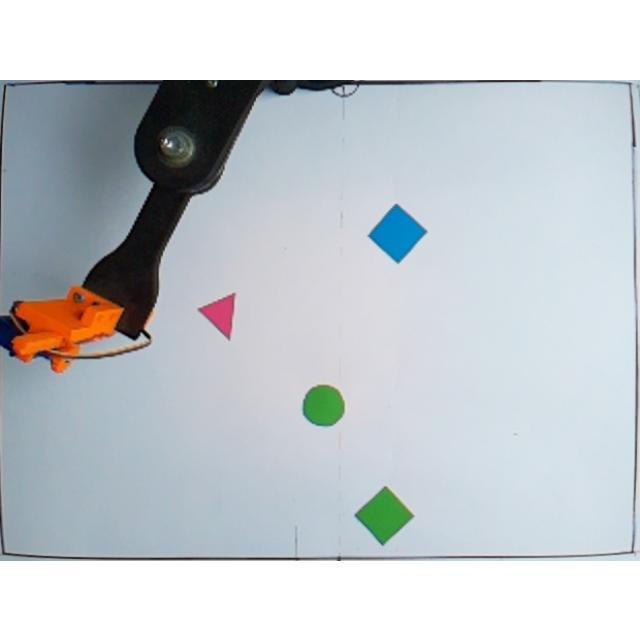blueSquare: (368, 202, 428, 264)
greenCircle: (301, 383, 345, 427)
greenSquare: (354, 484, 416, 548)
pinkTriangle: (196, 290, 238, 342)
